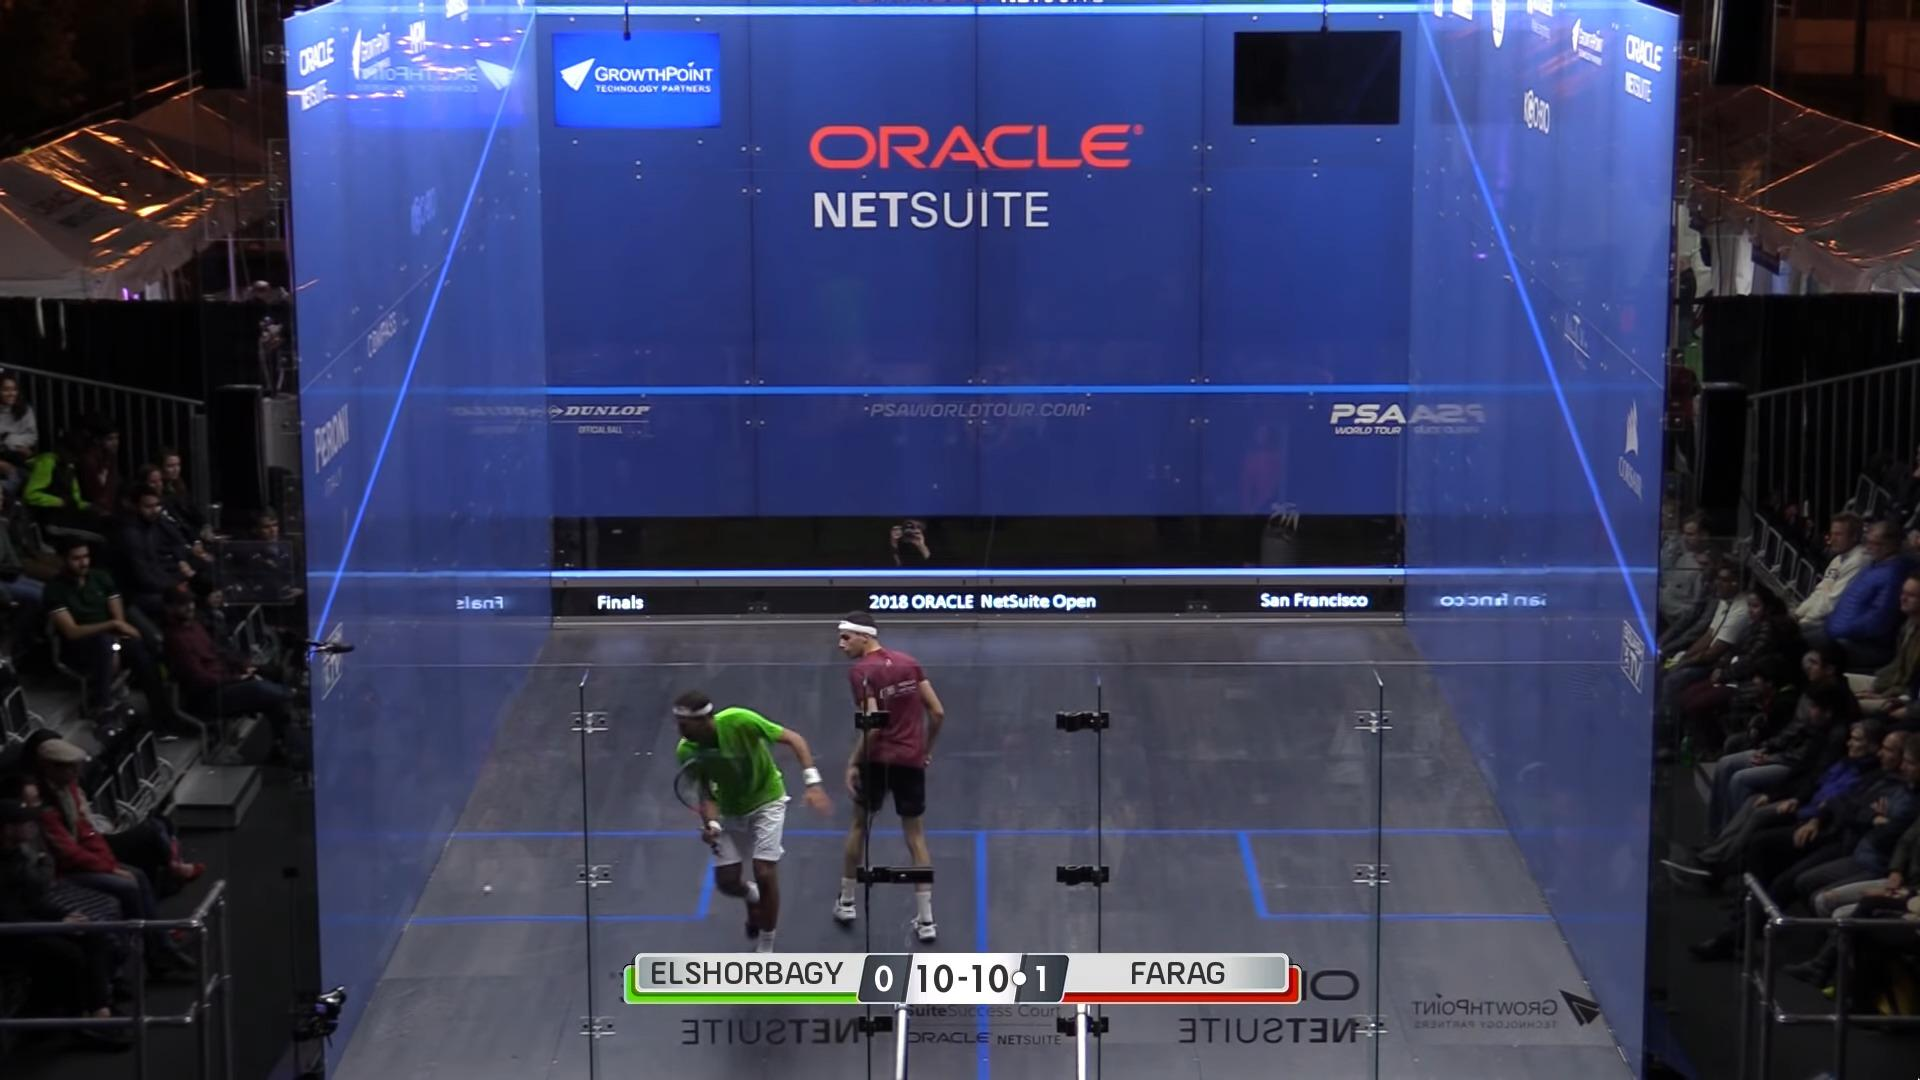Squash-Ball: (477, 876, 500, 901)
